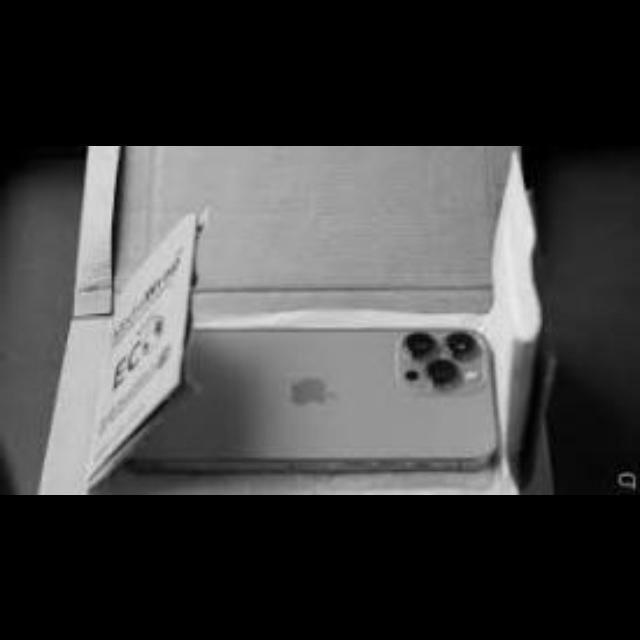fake: (104, 289, 538, 487)
